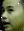without_mask: (1, 2, 24, 31)
